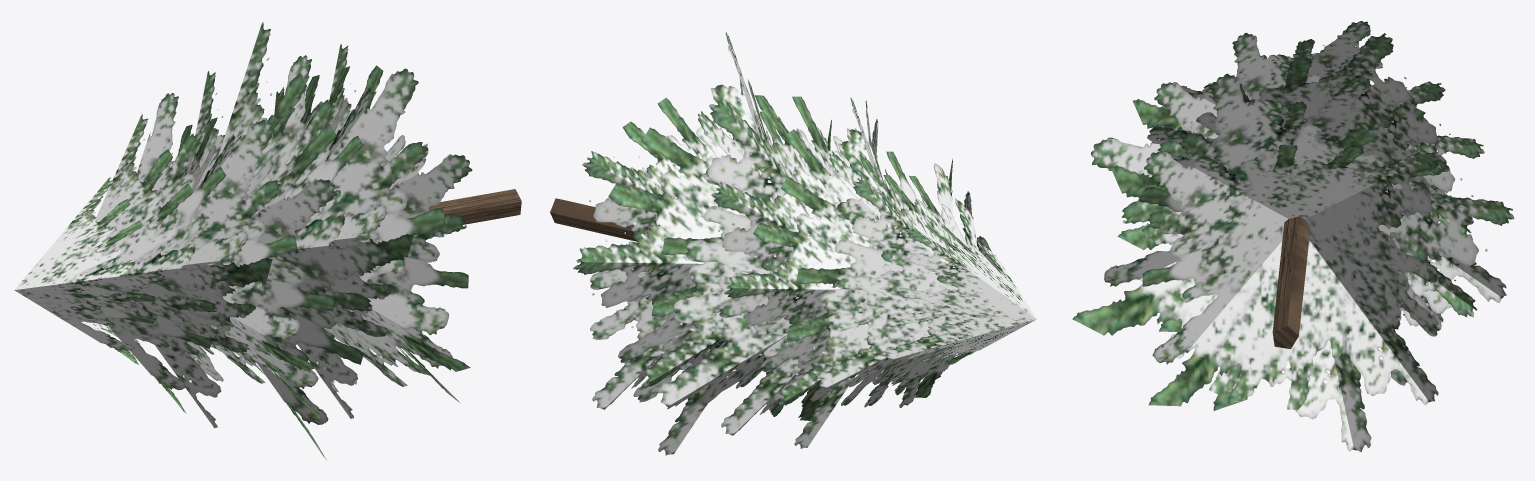
3 renders of one model, left to right at view 1: azimuth 30°, elevation 25°; view 2: azimuth 150°, elevation 25°; view 3: azimuth 270°, elevation 25°, orthographic. The views are drawn at different scales.
Parts seen in each view (by area): view 1: tree.097; view 2: tree.097; view 3: tree.097.
Boxes of the visible parts, x1,y1,x2,y2 form: tree.097: [14, 22, 521, 460]; tree.097: [550, 32, 1036, 455]; tree.097: [1072, 21, 1514, 452].
Size of the model in its own units: 7.63 by 9.78 by 7.64.
